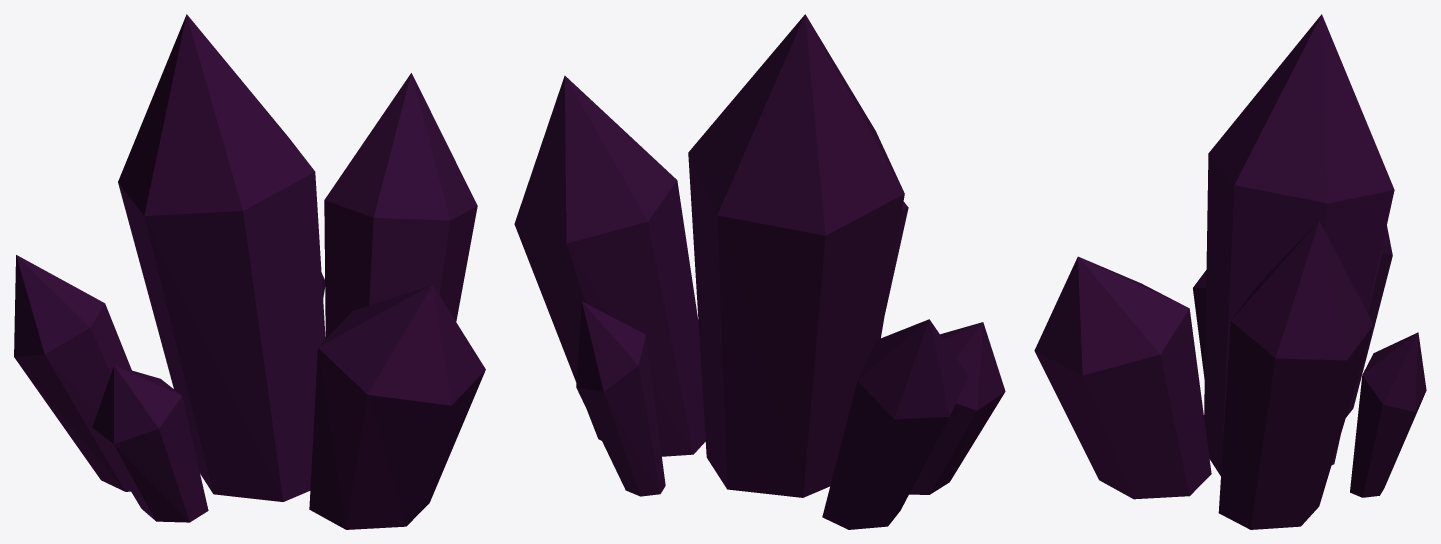
File: crystalbunch2.fbx
3 views of the same model, side by side, from view 1: azimuth 30°, elevation 25°; view 2: azimuth 150°, elevation 25°; view 3: azimuth 270°, elevation 25° (orthographic). The views are drawn at different scales.
Visible parts, largest first — view 1: crystal003; view 2: crystal003; view 3: crystal003.
Boxes of the visible parts, x1,y1,x2,y2 form: crystal003: (14, 14, 485, 529); crystal003: (514, 14, 1005, 529); crystal003: (1034, 14, 1426, 529).
Size of the model in its own units: 33.7 by 34.57 by 29.23.
